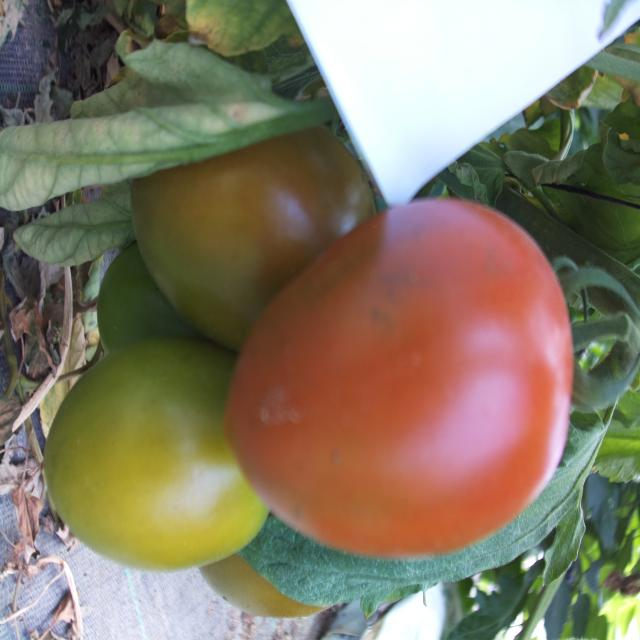kirmizi: (194, 143, 584, 577)
